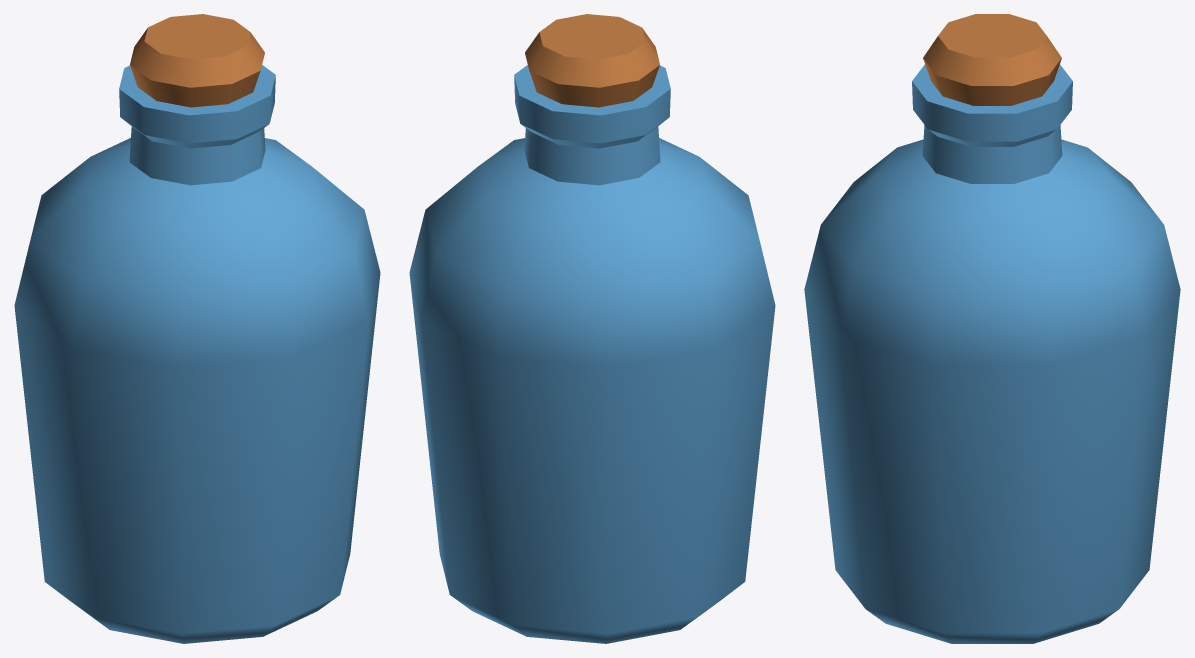
File: Bottle_I.fbx
3 views of the same model, side by side, from view 1: azimuth 30°, elevation 25°; view 2: azimuth 150°, elevation 25°; view 3: azimuth 270°, elevation 25° (orthographic).
Visible parts, largest first — view 1: Bottle_I; view 2: Bottle_I; view 3: Bottle_I.
Boxes of the visible parts, x1,y1,x2,y2 form: Bottle_I: (14,14,380,643); Bottle_I: (409,14,775,643); Bottle_I: (804,14,1180,643).
Size of the model in its own units: 21.43 by 36.68 by 22.53.
